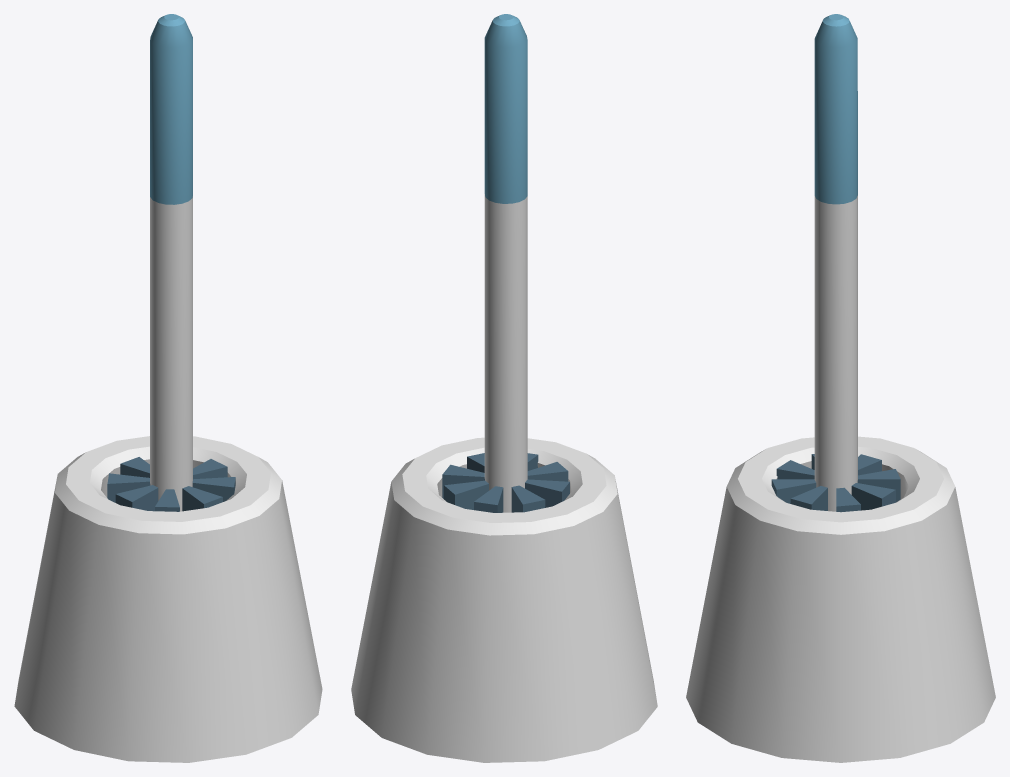
File: SM_ToiletBrush.fbx
3 renders of one model, left to right at view 1: azimuth 30°, elevation 25°; view 2: azimuth 150°, elevation 25°; view 3: azimuth 270°, elevation 25°, orthographic.
Parts seen in each view (by area): view 1: SM_ToiletBrush; view 2: SM_ToiletBrush; view 3: SM_ToiletBrush.
Part boxes in pixels (x1,y1,x2,y2): SM_ToiletBrush: [14, 14, 322, 762]; SM_ToiletBrush: [351, 14, 657, 762]; SM_ToiletBrush: [686, 14, 995, 762].
Bounding box in the file's own units: 81.89 × 198 × 81.89.
